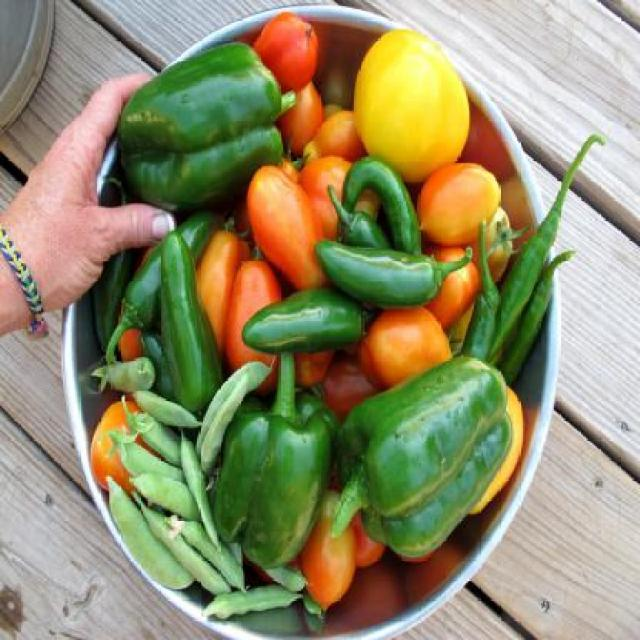Bell pepper: (332, 356, 514, 562), (120, 43, 297, 211), (211, 354, 337, 574)
